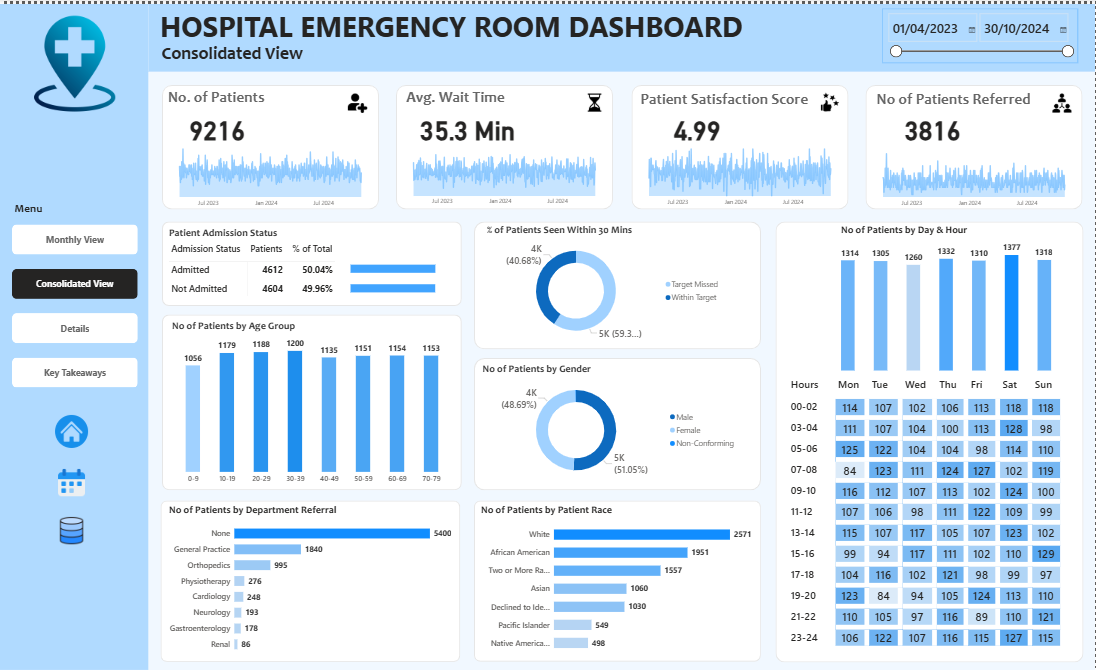

What the dashboard file says about the page in this screenshot:
{"tool":"powerbi","page":{"name":"Consolidated View","canvas":[2300,1400],"ordinal":1},"visuals":[{"type":"shape","box":[338.5,171.3,455.5,261.2],"z":0},{"type":"shape","box":[1324.7,171.3,455.5,261.2],"z":1000},{"type":"shape","box":[0,0,311.3,1399.9],"z":2000},{"type":"shape","box":[831.6,171.3,455.5,261.2],"z":3000},{"type":"card","fields":{"Values":["Hospital ER_Hospital ER.No of Patients"]},"box":[374,225.7,160.9,66.9],"z":4000},{"type":"card","fields":{"Values":["Hospital ER_Hospital ER.Avg Wait Time"]},"box":[869.2,225.7,223.6,66.9],"z":5000},{"type":"card","fields":{"Values":["Avg(Hospital ER_Hospital ER.Patient Satisfaction Score)"]},"box":[1381.4,225.6,160.9,66.9],"z":6000},{"type":"shape","box":[1817.8,171.3,455.5,261.2],"z":7000},{"type":"card","fields":{"Values":["Hospital ER_Hospital ER.Measure"]},"box":[1876.7,227.6,160.9,66.9],"z":8000},{"type":"shape","box":[311.3,0,1989.1,142.1],"z":9000},{"type":"textbox","box":[339.2,171.3,227.8,56.5],"z":10000},{"type":"textbox","box":[841.3,171.3,231.1,56.5],"z":11000},{"type":"textbox","box":[1331.2,172,377.5,55.8],"z":12000},{"type":"textbox","box":[1828.2,173.4,344.8,56.4],"z":13000},{"type":"areaChart","fields":{"Y":["Hospital ER_Hospital ER.No of Patients"],"Category":["Calendar Table.Date.Variation.Date Hierarchy.Year","Calendar Table.Date.Variation.Date Hierarchy.Quarter","Calendar Table.Date.Variation.Date Hierarchy.Month","Calendar Table.Date.Variation.Date Hierarchy.Day"]},"box":[348.4,288.1,435.5,145.2],"z":14000},{"type":"areaChart","fields":{"Category":["Calendar Table.Date.Variation.Date Hierarchy.Year","Calendar Table.Date.Variation.Date Hierarchy.Quarter","Calendar Table.Date.Variation.Date Hierarchy.Month","Calendar Table.Date.Variation.Date Hierarchy.Day"],"Y":["Avg(Hospital ER_Hospital ER.Patient Waittime)"]},"box":[842.1,285.9,435.5,145.2],"z":15000},{"type":"areaChart","fields":{"Category":["Calendar Table.Date.Variation.Date Hierarchy.Year","Calendar Table.Date.Variation.Date Hierarchy.Quarter","Calendar Table.Date.Variation.Date Hierarchy.Month","Calendar Table.Date.Variation.Date Hierarchy.Day"],"Y":["Avg(Hospital ER_Hospital ER.Patient Satisfaction Score)"]},"box":[1333.4,290.4,435.5,142.9],"z":16000},{"type":"areaChart","fields":{"Category":["Calendar Table.Date.Variation.Date Hierarchy.Year","Calendar Table.Date.Variation.Date Hierarchy.Quarter","Calendar Table.Date.Variation.Date Hierarchy.Month","Calendar Table.Date.Variation.Date Hierarchy.Day"],"Y":["Hospital ER_Hospital ER.Measure"]},"box":[1827.1,288.1,435.5,145.2],"z":17000},{"type":"textbox","box":[332.2,0,1294.5,90],"z":18000},{"type":"image","box":[46.9,17.9,218.9,212.2],"z":19000},{"type":"image","box":[1222.3,183.9,52.2,48.1],"z":20000},{"type":"image","box":[724.8,183.1,52.8,51.2],"z":21000},{"type":"image","box":[2198,181.8,62.7,50],"z":22000},{"type":"image","box":[1713.3,179.7,58.5,52.2],"z":23000},{"type":"shape","box":[338.9,455,629.1,177.3],"z":24000},{"type":"shape","box":[994.7,455,602.5,268.3],"z":25000},{"type":"shape","box":[1626.9,455,646.4,925.6],"z":26000},{"type":"shape","box":[996.2,743.7,602.5,277.7],"z":27000},{"type":"donutChart","title":"% of Patients Seen Within 30 Mins","fields":{"Y":["Hospital ER_Hospital ER.No of Patients"],"Category":["Hospital ER_Hospital ER.Waittime Status"]},"box":[1016.6,461,504.4,257.6],"z":28000},{"type":"donutChart","title":"No of Patients by Gender","fields":{"Y":["Hospital ER_Hospital ER.No of Patients"],"Category":["Hospital ER_Hospital ER.Full Gender"]},"box":[1007.2,753.1,547.5,257.3],"z":29000},{"type":"shape","box":[338.9,652.7,629.1,368.7],"z":30000},{"type":"pivotTable","title":"Patient Admission Status","fields":{"Rows":["Hospital ER_Hospital ER.Admission Status"],"Values":["Hospital ER_Hospital ER.No of Patients1","Hospital ER_Hospital ER.No of Patients"]},"box":[347.9,465.5,610,158.3],"z":31000},{"type":"barChart","fields":{"Category":["Hospital ER_Hospital ER.Admission Status"],"Y":["Hospital ER_Hospital ER.No of Patients"]},"box":[729.5,514.6,241.6,120.8],"z":32000},{"type":"clusteredColumnChart","fields":{"Category":["Hospital ER_Hospital ER.Age Group"],"Y":["Hospital ER_Hospital ER.No of Patients"]},"box":[354.6,662.7,599.3,354.6],"z":33000},{"type":"shape","box":[337.3,1041.7,629.1,338.9],"z":34000},{"type":"clusteredBarChart","fields":{"Category":["Hospital ER_Hospital ER.Department Referral"],"Y":["Hospital ER_Hospital ER.No of Patients"]},"box":[348.3,1049.6,602.5,324.8],"z":35000},{"type":"shape","box":[996.5,1043,602.2,338.4],"z":36000},{"type":"clusteredBarChart","fields":{"Y":["Hospital ER_Hospital ER.No of Patients"],"Category":["Hospital ER_Hospital ER.Patient Race"]},"box":[1005.8,1049.2,578.9,324.4],"z":37000},{"type":"pivotTable","fields":{"Columns":["Calendar Table.Day Name"],"Rows":["Hospital ER_Hospital ER.Waittime Interval"],"Values":["Hospital ER_Hospital ER.No of Patients"]},"box":[1649.3,776.3,599.2,583.1],"z":38000},{"type":"clusteredColumnChart","title":"No of Patients by Day & Hour","fields":{"Category":["Calendar Table.Day Name"],"Y":["Hospital ER_Hospital ER.No of Patients"]},"box":[1758.7,461.3,453.4,315.3],"z":39000},{"type":"textbox","box":[333.7,76.1,411.3,59],"z":40000},{"type":"pageNavigator","box":[24.2,462.3,264.1,343.1],"z":41000},{"type":"textbox","box":[24.2,409.1,99.9,48.3],"z":42000},{"type":"image","box":[110.1,854.1,79.5,87.7],"z":46000},{"type":"image","box":[116.2,966.2,67.3,75.4],"z":47000},{"type":"image","box":[116.2,1068.1,67.3,75.4],"z":48000},{"type":"slicer","fields":{"Values":["Calendar Table.Date"]},"box":[1851.2,8.4,411.6,114.9],"z":50000}]}

Visuals, with their boxes in screenshot pixels (x1, y1, x2, y2), scaled from the page's 2300x1400 canvas onto the 1096x670 screenshot:
shape: l=161, t=82, r=378, b=207
shape: l=631, t=82, r=848, b=207
shape: l=0, t=0, r=148, b=669
shape: l=396, t=82, r=613, b=207
card - Hospital ER_Hospital ER.No of Patients: l=178, t=108, r=255, b=140
card - Hospital ER_Hospital ER.Avg Wait Time: l=414, t=108, r=521, b=140
card - Avg(Hospital ER_Hospital ER.Patient Satisfaction Score): l=658, t=108, r=735, b=140
shape: l=866, t=82, r=1083, b=207
card - Hospital ER_Hospital ER.Measure: l=894, t=109, r=971, b=141
shape: l=148, t=0, r=1095, b=68
textbox: l=162, t=82, r=270, b=109
textbox: l=401, t=82, r=511, b=109
textbox: l=634, t=82, r=814, b=109
textbox: l=871, t=83, r=1035, b=110
areaChart - Hospital ER_Hospital ER.No of Patients x Calendar Table.Date.Variation.Date Hierarchy.Year: l=166, t=138, r=374, b=207
areaChart - Calendar Table.Date.Variation.Date Hierarchy.Year x Calendar Table.Date.Variation.Date Hierarchy.Quarter: l=401, t=137, r=609, b=206
areaChart - Calendar Table.Date.Variation.Date Hierarchy.Year x Calendar Table.Date.Variation.Date Hierarchy.Quarter: l=635, t=139, r=843, b=207
areaChart - Calendar Table.Date.Variation.Date Hierarchy.Year x Calendar Table.Date.Variation.Date Hierarchy.Quarter: l=871, t=138, r=1078, b=207
textbox: l=158, t=0, r=775, b=43
image: l=22, t=9, r=127, b=110
image: l=582, t=88, r=607, b=111
image: l=345, t=88, r=371, b=112
image: l=1047, t=87, r=1077, b=111
image: l=816, t=86, r=844, b=111
shape: l=161, t=218, r=461, b=303
shape: l=474, t=218, r=761, b=346
shape: l=775, t=218, r=1083, b=661
shape: l=475, t=356, r=762, b=489
"% of Patients Seen Within 30 Mins" donutChart: l=484, t=221, r=725, b=344
"No of Patients by Gender" donutChart: l=480, t=360, r=741, b=484
shape: l=161, t=312, r=461, b=489
"Patient Admission Status" pivotTable: l=166, t=223, r=456, b=299
barChart - Hospital ER_Hospital ER.Admission Status x Hospital ER_Hospital ER.No of Patients: l=348, t=246, r=463, b=304
clusteredColumnChart - Hospital ER_Hospital ER.Age Group x Hospital ER_Hospital ER.No of Patients: l=169, t=317, r=455, b=487
shape: l=161, t=499, r=461, b=661
clusteredBarChart - Hospital ER_Hospital ER.Department Referral x Hospital ER_Hospital ER.No of Patients: l=166, t=502, r=453, b=658
shape: l=475, t=499, r=762, b=661
clusteredBarChart - Hospital ER_Hospital ER.No of Patients x Hospital ER_Hospital ER.Patient Race: l=479, t=502, r=755, b=657
pivotTable - Calendar Table.Day Name x Hospital ER_Hospital ER.Waittime Interval: l=786, t=372, r=1071, b=651
"No of Patients by Day & Hour" clusteredColumnChart: l=838, t=221, r=1054, b=372
textbox: l=159, t=36, r=355, b=65
pageNavigator: l=12, t=221, r=137, b=385
textbox: l=12, t=196, r=59, b=219
image: l=52, t=409, r=90, b=451
image: l=55, t=462, r=87, b=498
image: l=55, t=511, r=87, b=547
slicer - Calendar Table.Date: l=882, t=4, r=1078, b=59
